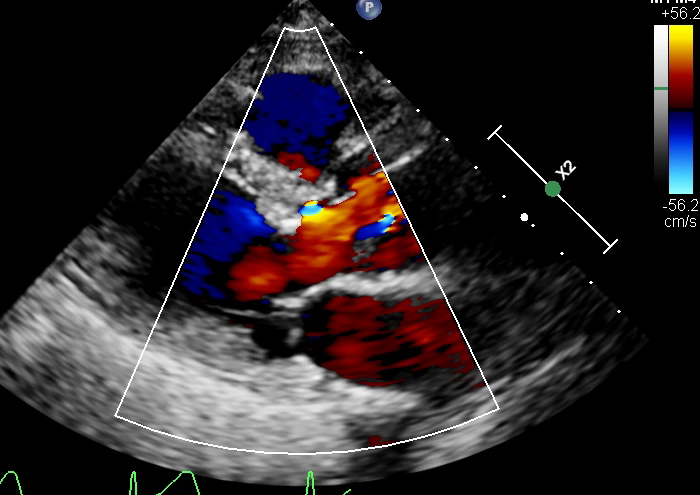AR: (302, 191, 378, 271)
